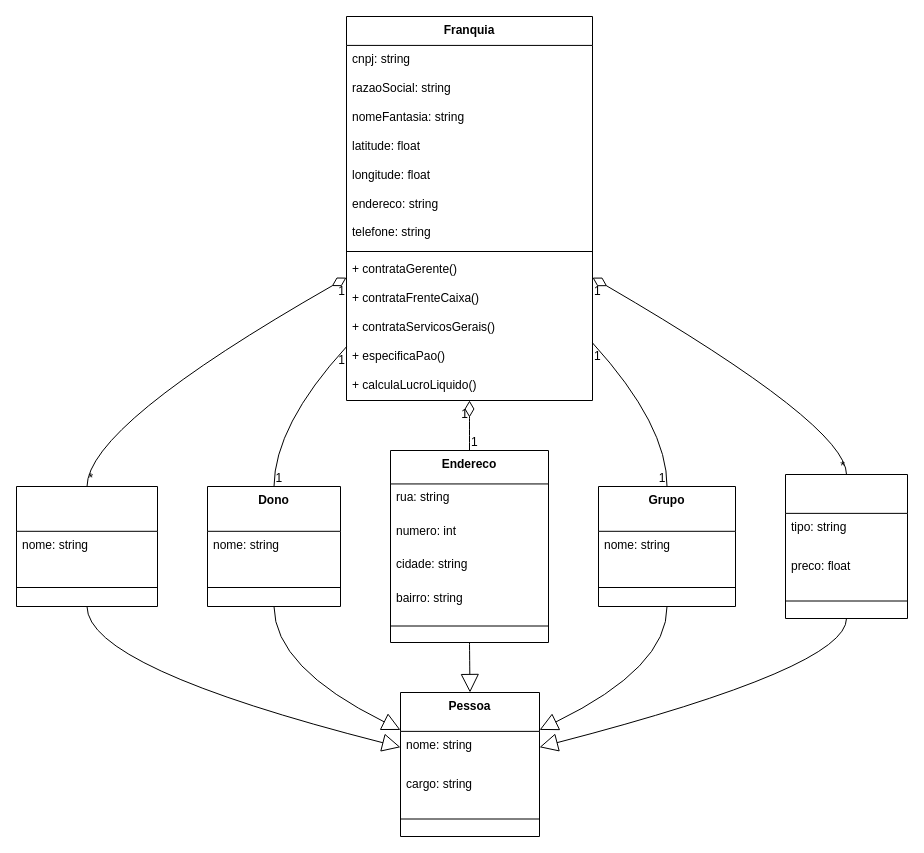
Some shapes in this 924 by 853 pixel diagram are drawn without their labels. The box of each missing label's shape, as (x1, y1, x2, y2) in pixels:
Cliente: (16, 486, 158, 606)
Pao: (784, 474, 908, 618)
